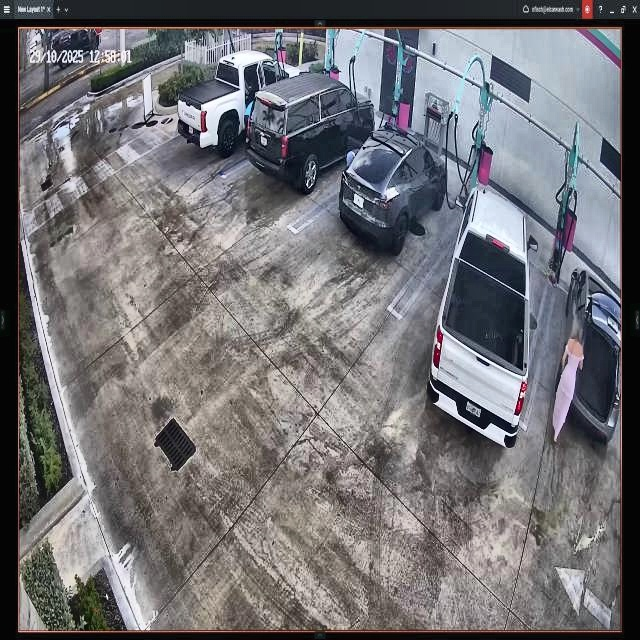Car: (427, 188, 537, 448), (245, 74, 373, 192), (177, 47, 310, 158), (340, 125, 448, 252)
